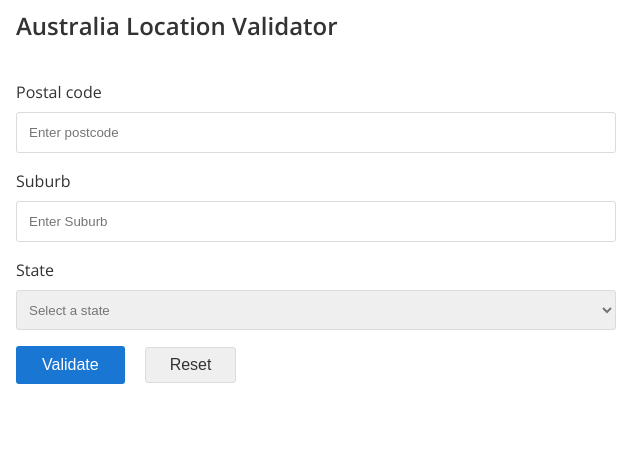
Scenario: a AddressForm › displays correct error when entered postcode does not match the suburb
In the number field with placeholder "Enter postcode": (316, 132) 16,112 -> 616,153, type "6002"
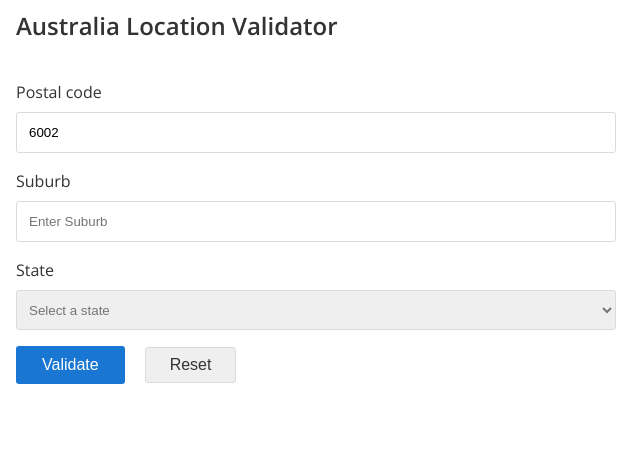
In the field with placeholder "Enter Suburb": (316, 222) 16,201 -> 616,242, type "East Perth"
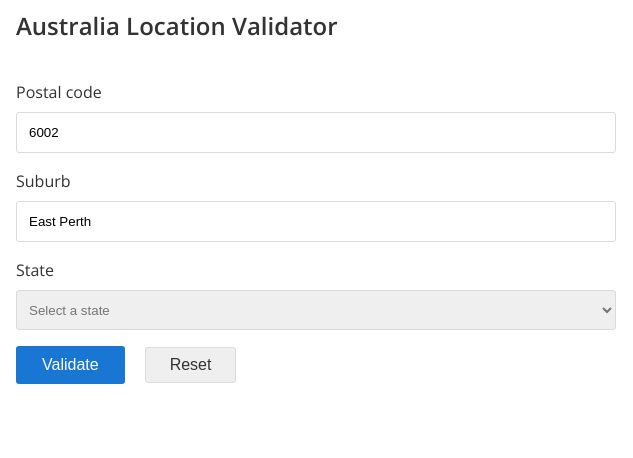
Select "Western Australia" in the dropdown with test id "select": (316, 310) 16,290 -> 616,330
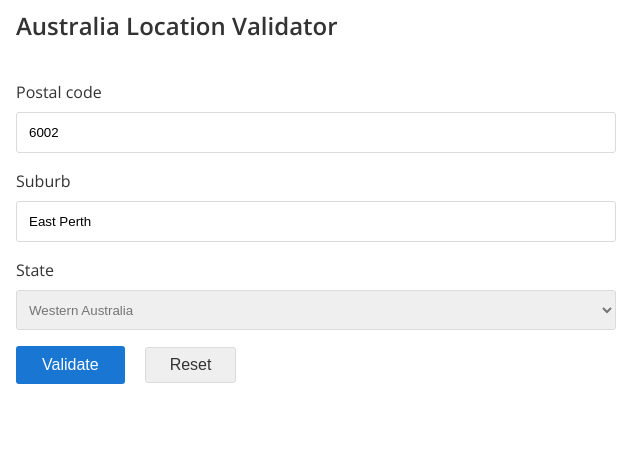
Click the button "Validate": (70, 365) 16,346 -> 125,384
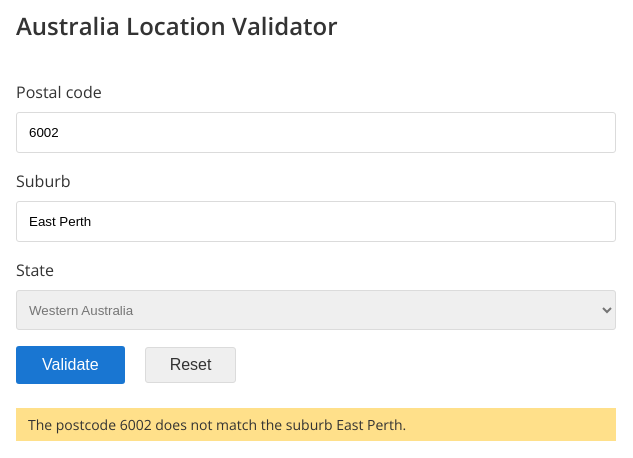
expect the text "The postcode 6002 does not match the suburb East Perth." is shown: met, box 16,408 -> 616,441
